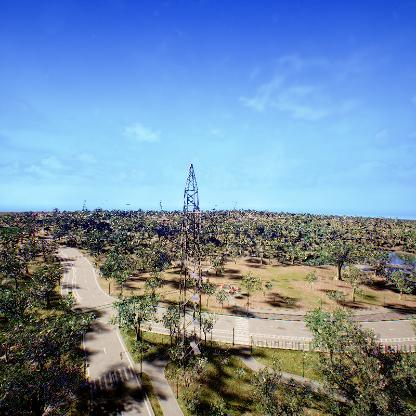tower: (177, 161, 203, 376)
